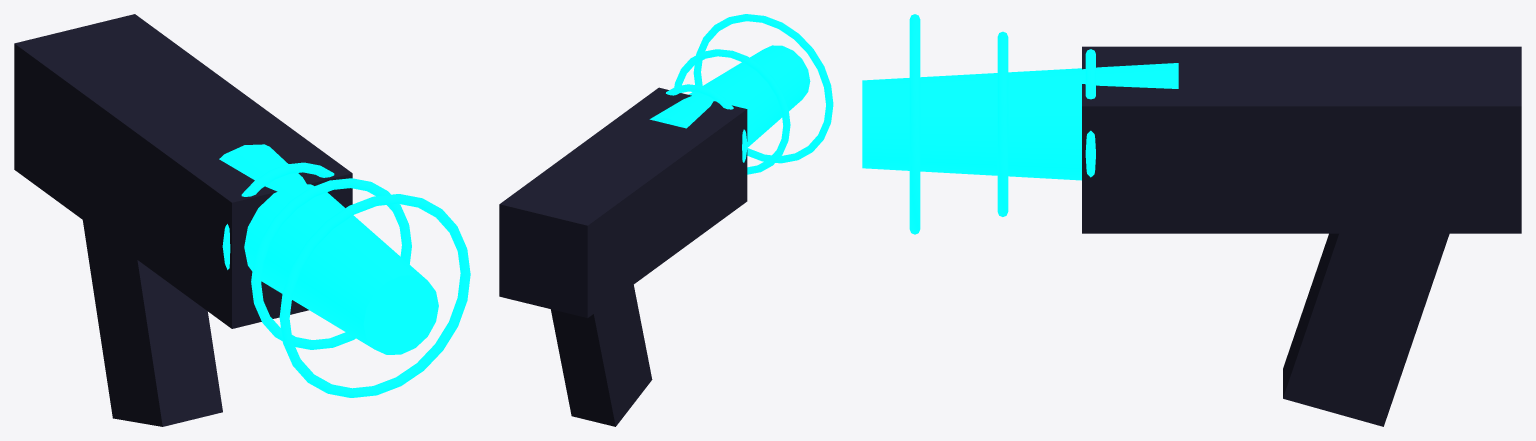
File: laser_blaster.glb
3 views of the same model, side by side, from view 1: azimuth 30°, elevation 25°; view 2: azimuth 150°, elevation 25°; view 3: azimuth 270°, elevation 25° (orthographic). The views are drawn at different scales.
Parts seen in each view (by area): view 1: model_laser_blaster; view 2: model_laser_blaster; view 3: model_laser_blaster.
Boxes of the visible parts, <box> form: model_laser_blaster: <box>14,14,470,426</box>; model_laser_blaster: <box>499,14,833,426</box>; model_laser_blaster: <box>862,14,1521,426</box>.
Size of the model in its own units: 1.26 by 2.44 by 3.75.
